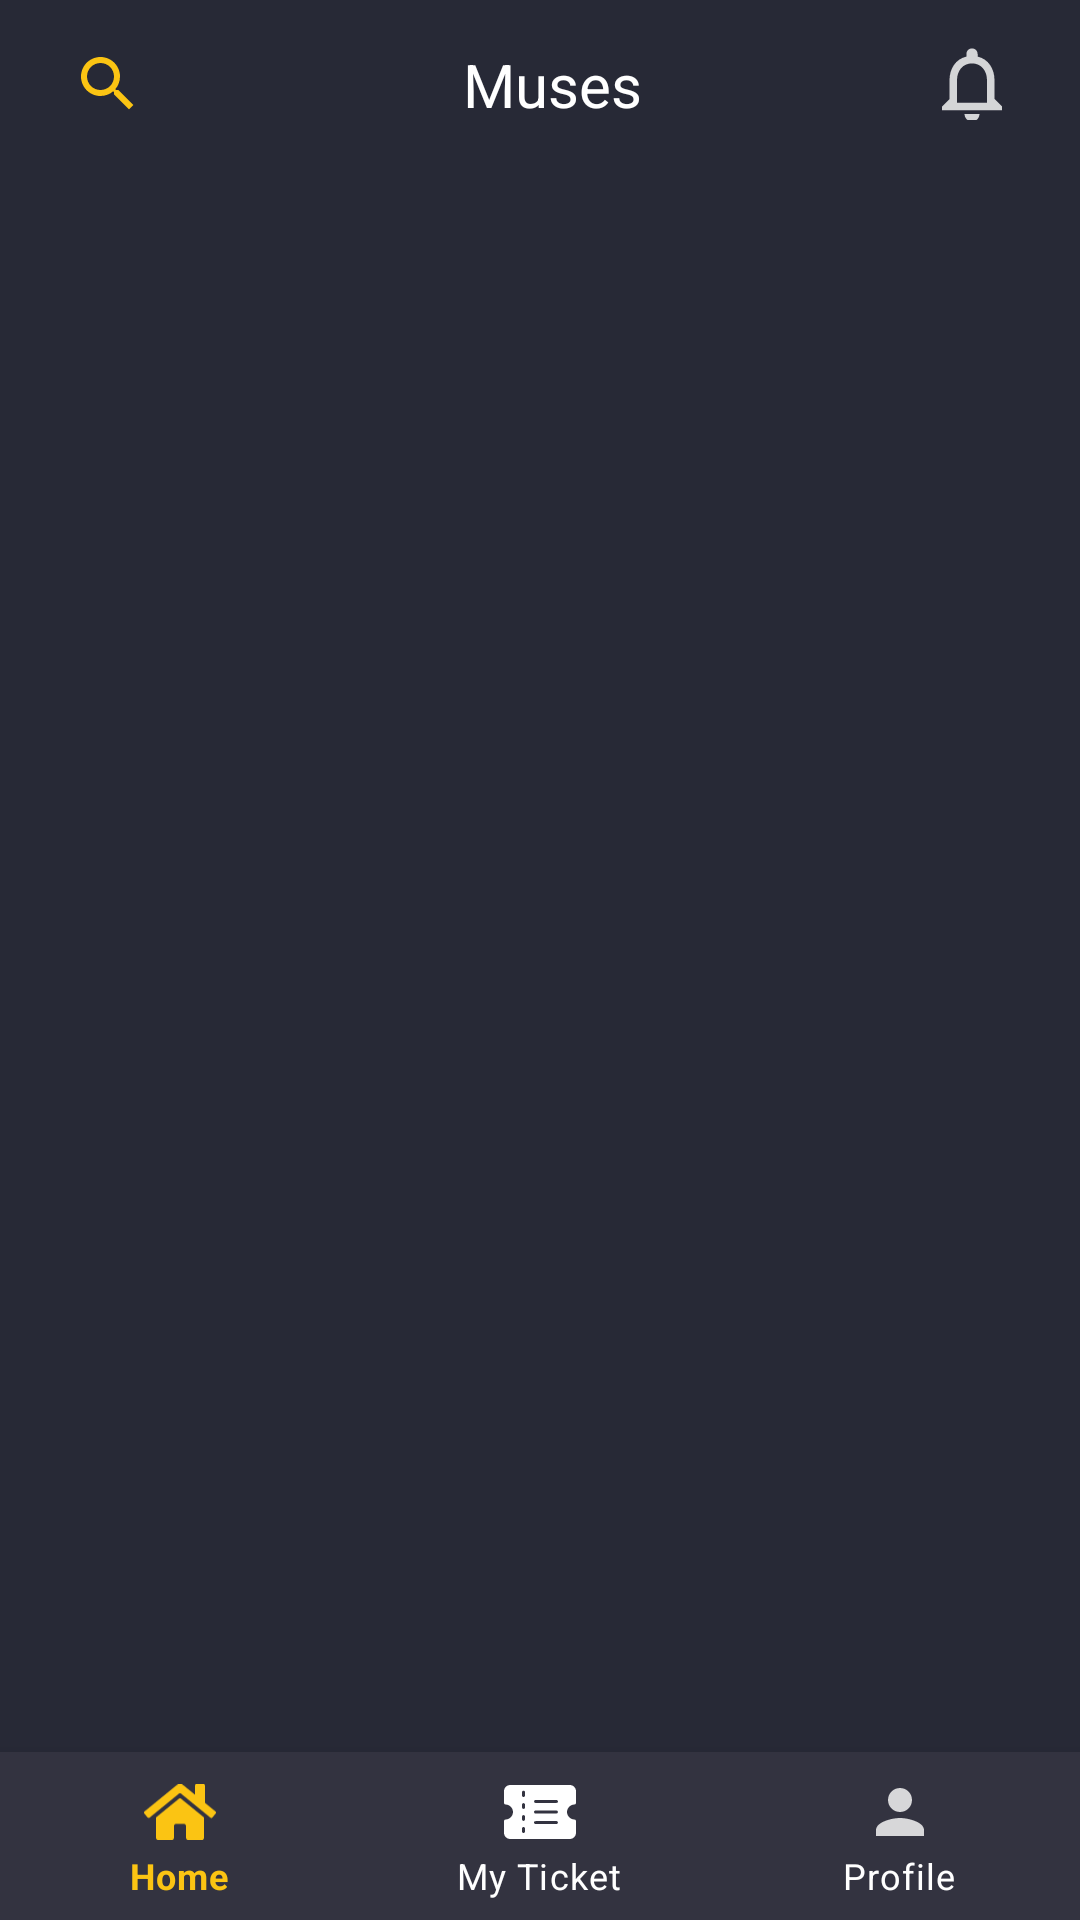

Where to tap for icons on this 1080px×1920px app screen, as (x=x, y=y):
notification: (x=972, y=84)
search: (x=107, y=83)
